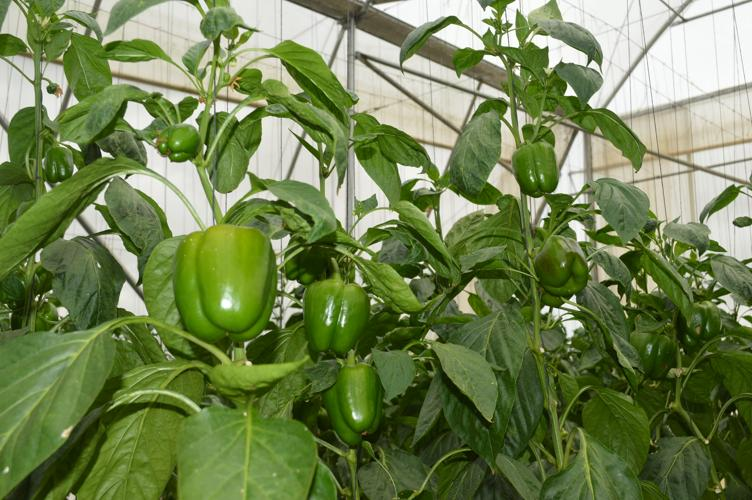BellPepper: (175, 224, 279, 344), (292, 282, 367, 355), (319, 366, 383, 445), (537, 231, 586, 300), (509, 143, 556, 192), (632, 330, 670, 379), (682, 304, 722, 343), (155, 126, 198, 162), (43, 144, 76, 183)
